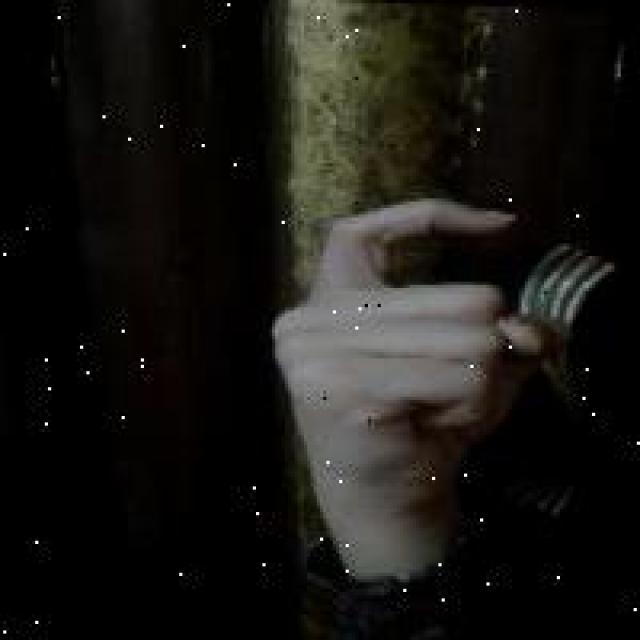X: (258, 189, 564, 566)
